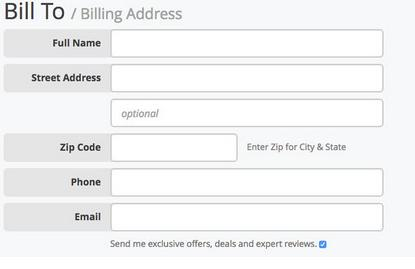checkbox: (316, 238, 328, 250)
checkbox_with_label: (109, 237, 331, 252)
field: (109, 167, 385, 197), (109, 29, 384, 58), (109, 64, 384, 93), (110, 99, 384, 128), (109, 203, 384, 231), (110, 133, 238, 162)
field_with_label: (29, 63, 386, 94), (51, 28, 385, 59), (71, 166, 386, 198), (72, 202, 386, 232), (59, 131, 240, 163)
